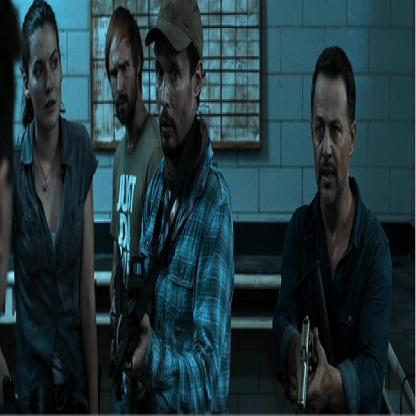Guns: (108, 250, 148, 414), (294, 312, 316, 414)
